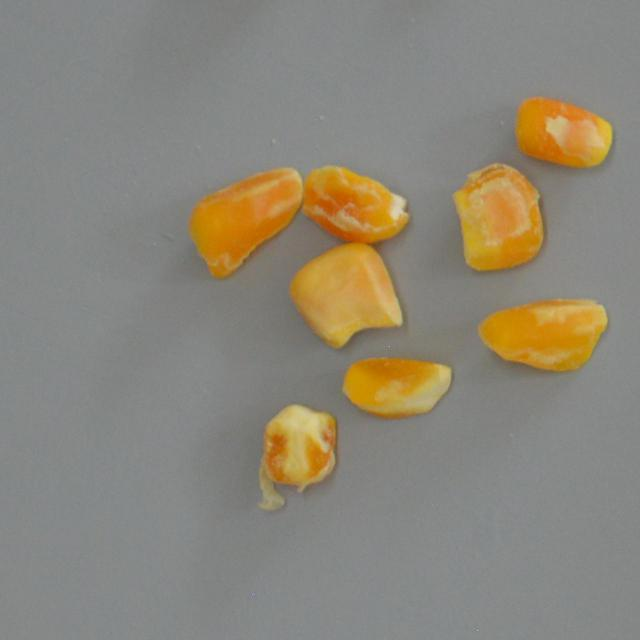dañado: (300, 160, 413, 246)
no_canjicado: (284, 236, 412, 352)
pelicula: (182, 164, 305, 280), (450, 160, 546, 272), (475, 294, 608, 373), (258, 402, 341, 512), (514, 93, 616, 168), (340, 356, 454, 416)
